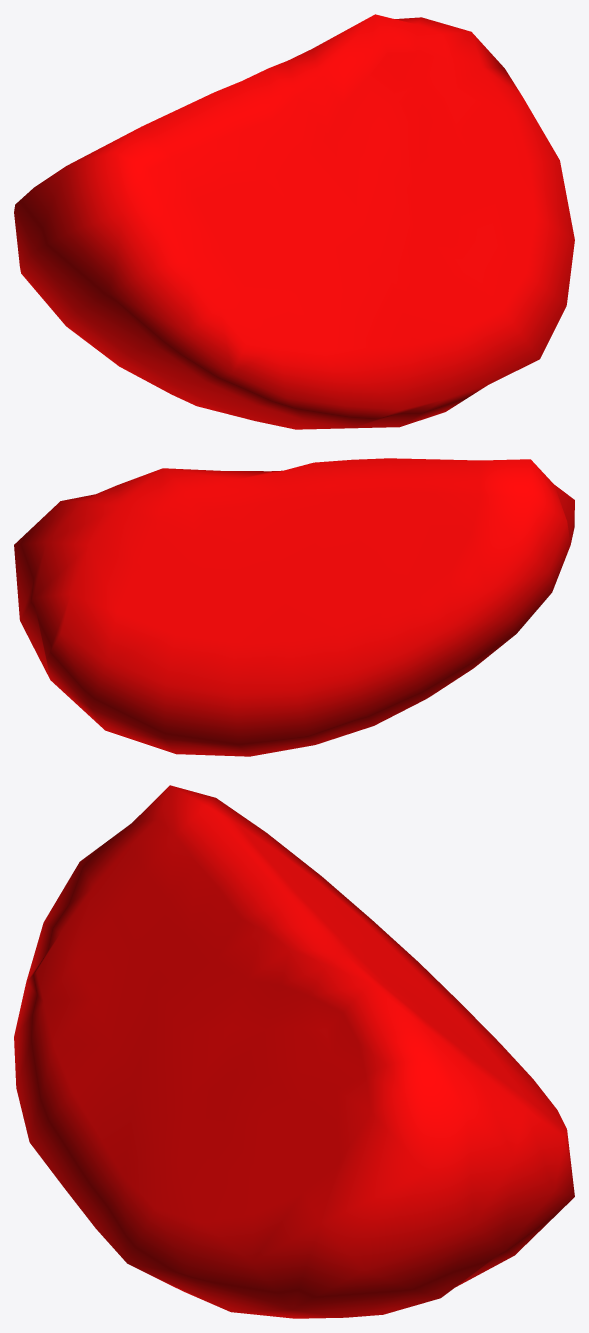
The model's file is apple4.FBX.
The picture shows the model from 3 angles, top to bottom: view 1: azimuth 30°, elevation 25°; view 2: azimuth 150°, elevation 25°; view 3: azimuth 270°, elevation 25°; orthographic projection. The views are drawn at different scales.
Visible parts, largest first — view 1: apple4; view 2: apple4; view 3: apple4.
Boxes of the visible parts, x1=… form: apple4: x1=14, y1=14, x2=574, y2=429; apple4: x1=14, y1=458, x2=574, y2=756; apple4: x1=14, y1=785, x2=574, y2=1318.
Size of the model in its own units: 62.94 by 36.32 by 52.25.
